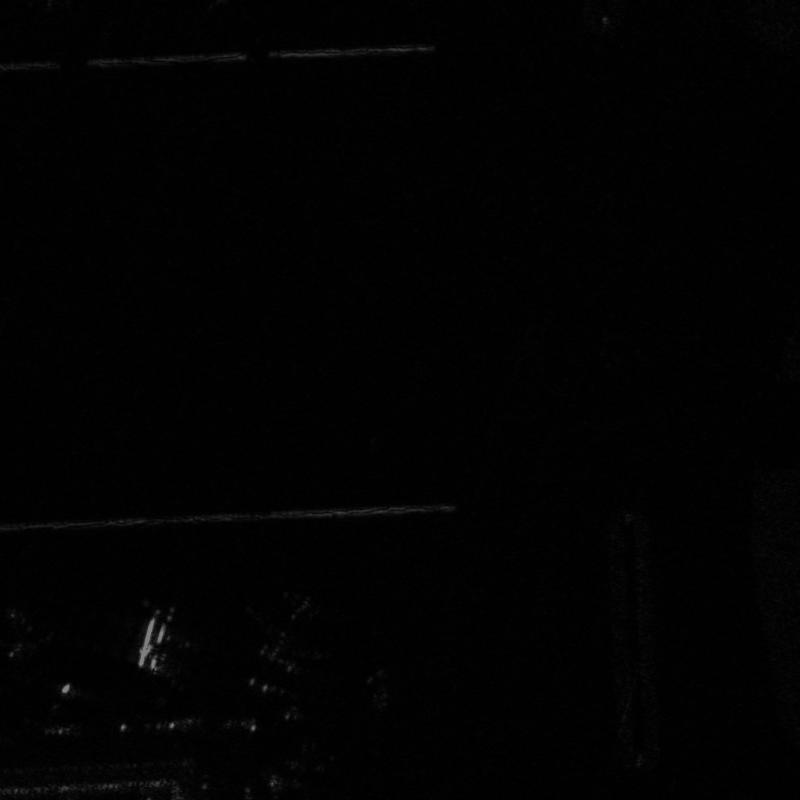A320/321: (227, 576, 327, 702)
Boeing787: (107, 599, 192, 691), (1, 597, 68, 660)
